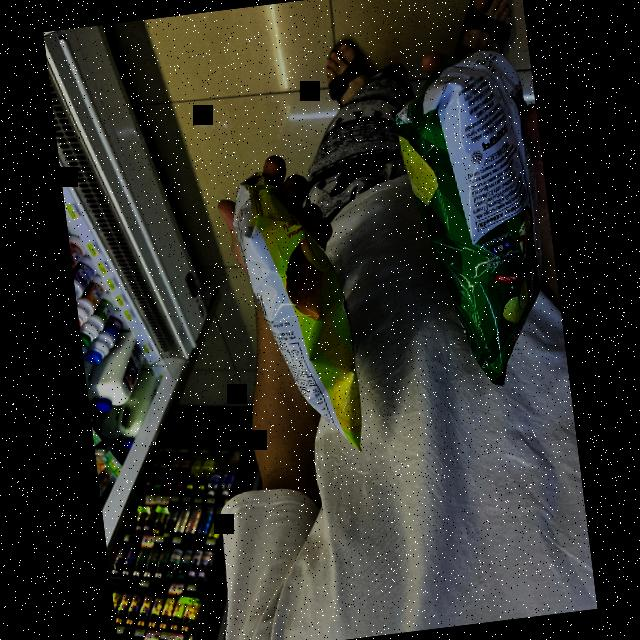snack_bag: (375, 36, 560, 395), (215, 168, 389, 458)
